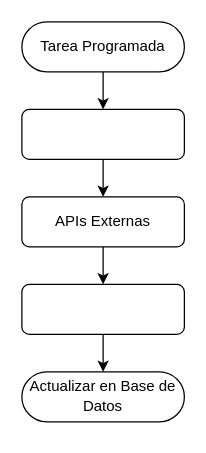
Some shapes in this 206 by 453 pixel diagram are drawn without their labels. The shapes that lost their labels are listed below. From the top down, each one's box as (x1, y1, x2, y2) in pixels, then its label:
(21, 108, 184, 159): BackEnd
(21, 283, 184, 334): Validar Datos
